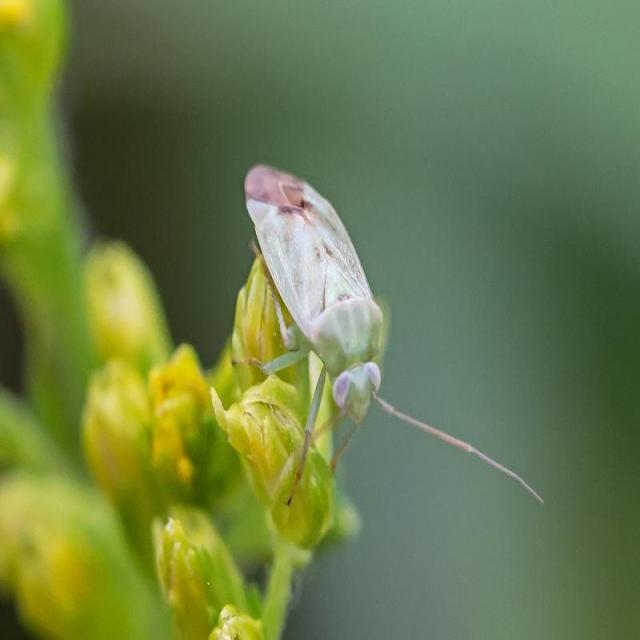Miridae-Adult-: (230, 138, 550, 520)
